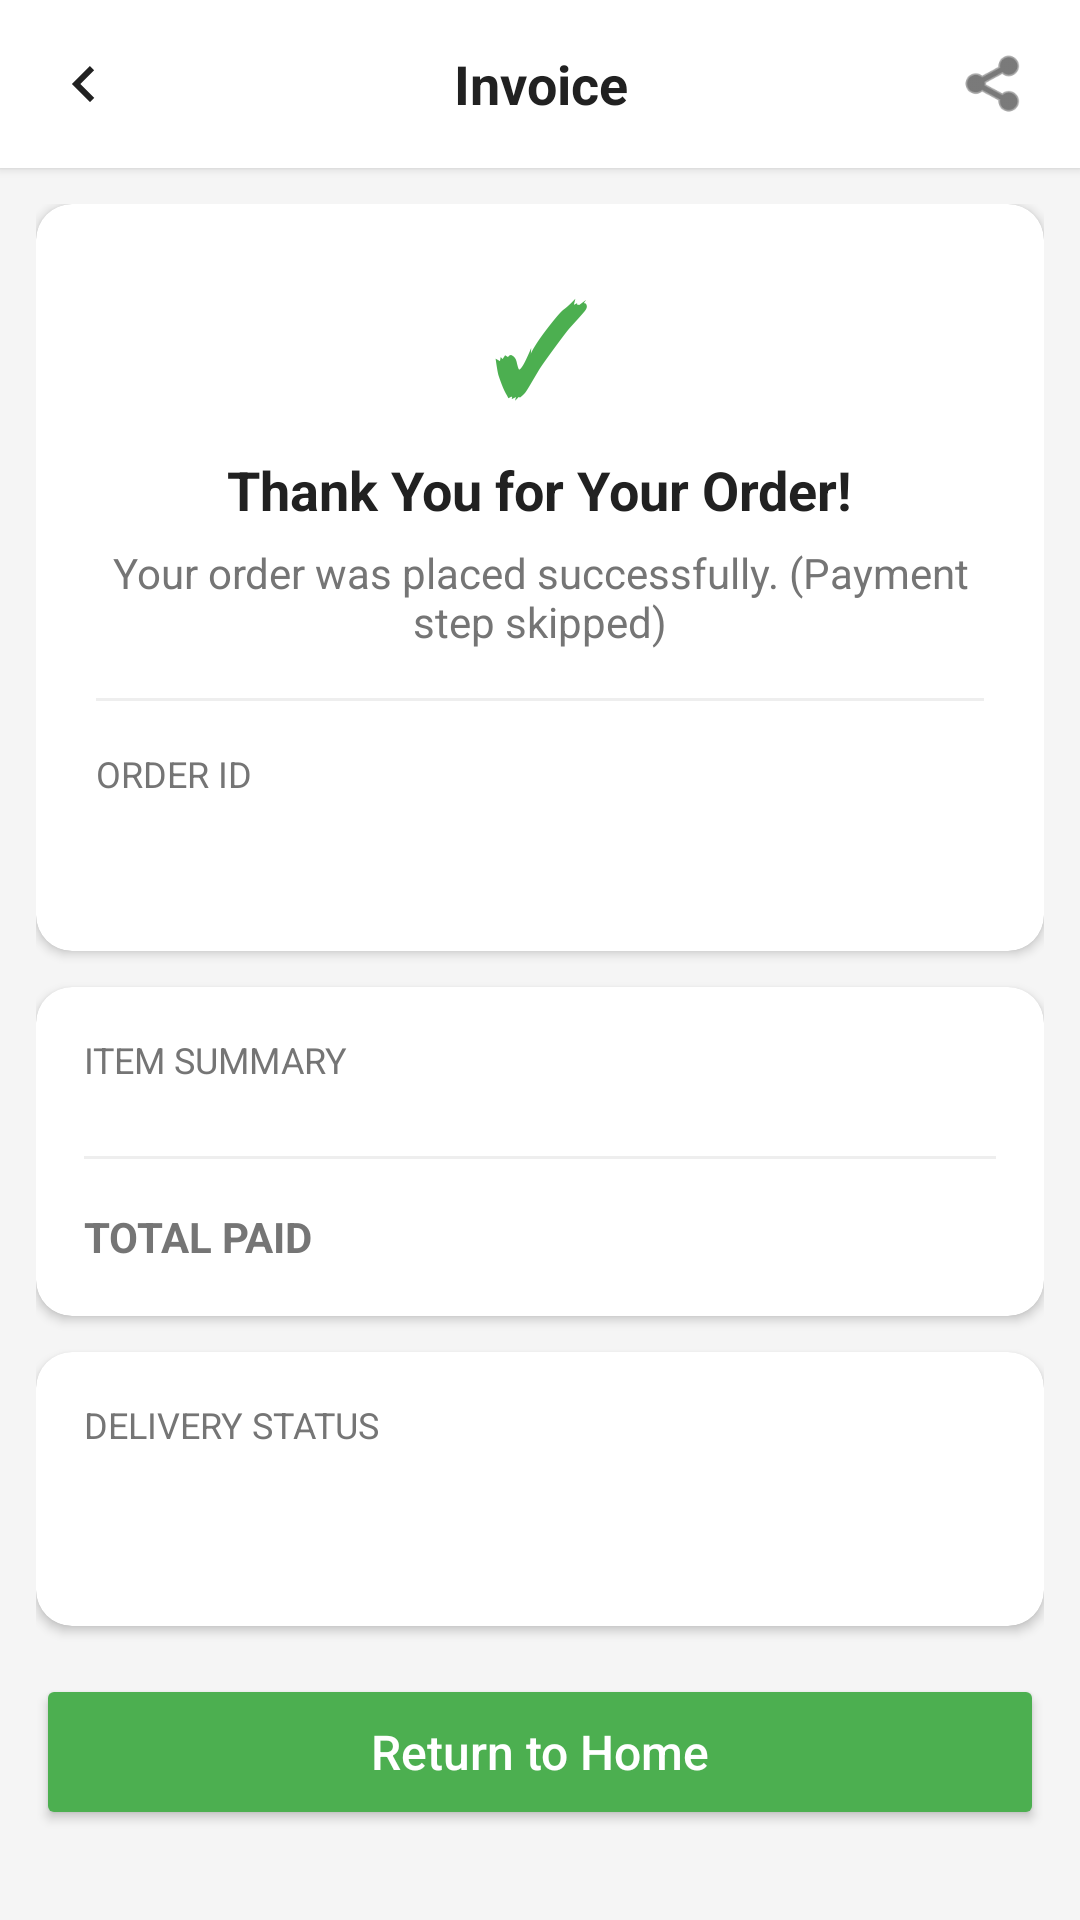

Screen size 1080 x 1920. Icon name, then its center in pixels as point (x, y):
share: point (992, 83)
